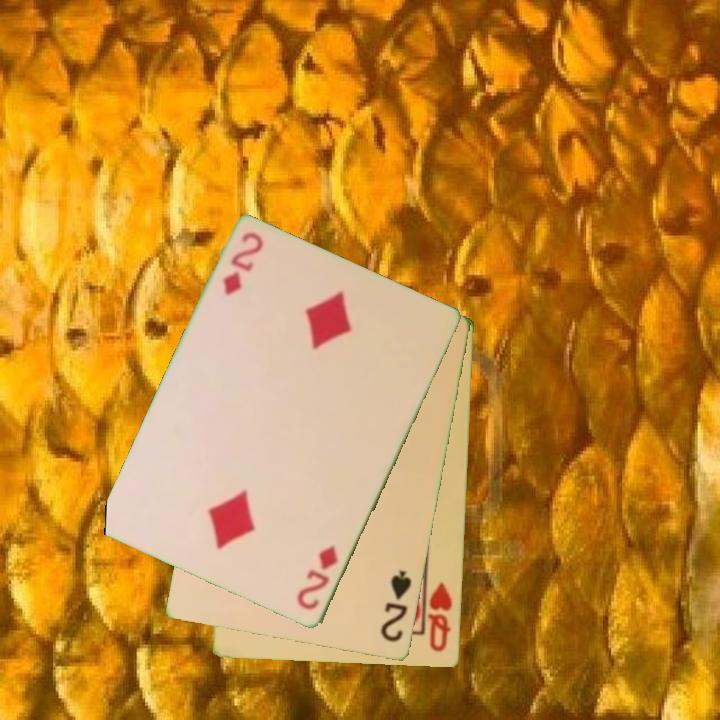2d: (293, 541, 341, 614), (219, 229, 267, 299)
2s: (377, 567, 415, 646)
Qh: (424, 579, 455, 655)
